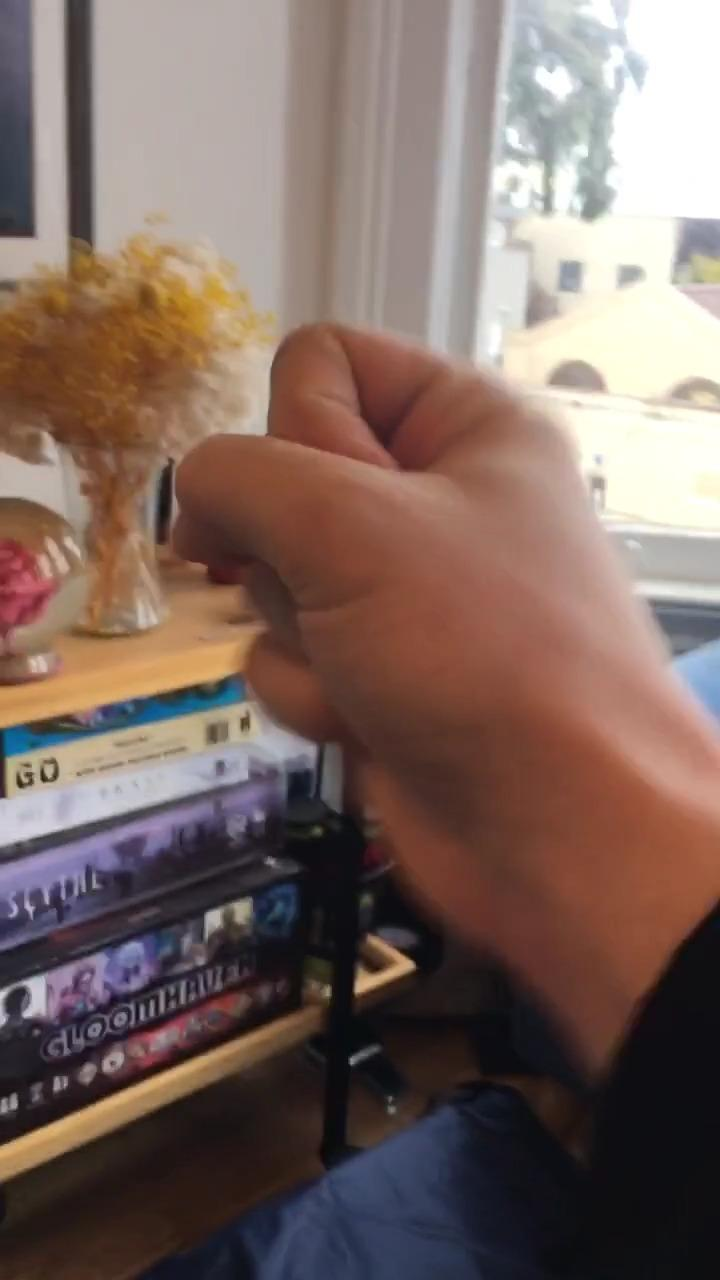Rock: (162, 326, 668, 961)
